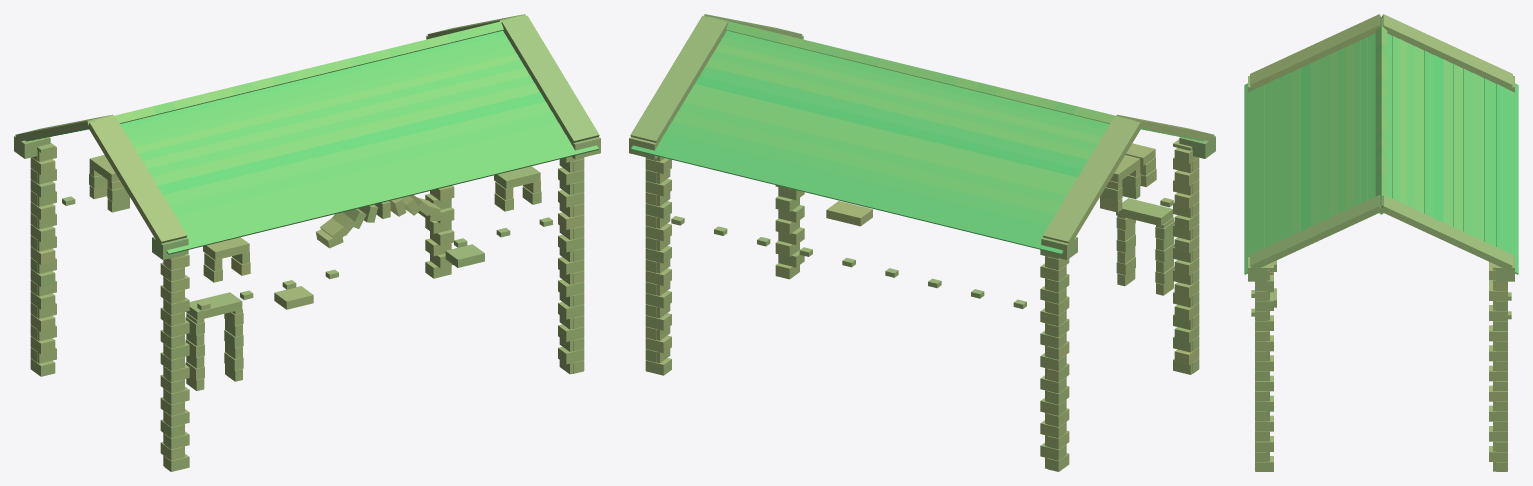
The model's file is SM_Bld_007_Stone.glb.
3 renders of one model, left to right at view 1: azimuth 30°, elevation 25°; view 2: azimuth 150°, elevation 25°; view 3: azimuth 270°, elevation 25°, orthographic. The views are drawn at different scales.
Visible parts, largest first — view 1: SM_Bld_007_Stone; view 2: SM_Bld_007_Stone; view 3: SM_Bld_007_Stone.
Part boxes in pixels (box(x1,y1,x2,y2)): SM_Bld_007_Stone: box(14, 14, 600, 471); SM_Bld_007_Stone: box(629, 14, 1215, 471); SM_Bld_007_Stone: box(1244, 14, 1518, 471).
Size of the model in its own units: 12.28 by 8.09 by 7.41.
